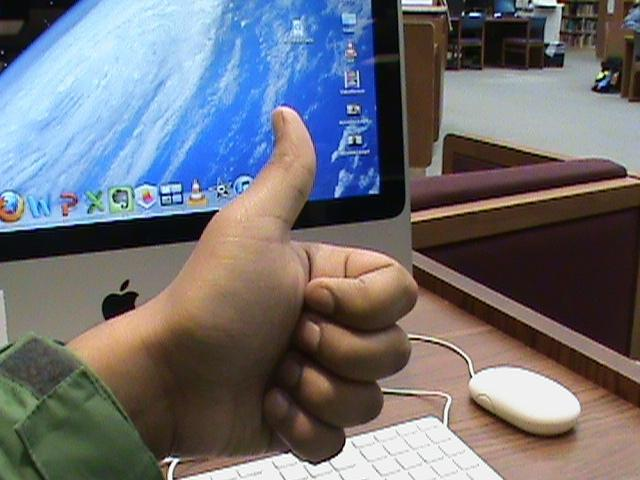apple: (101, 280, 139, 320)
